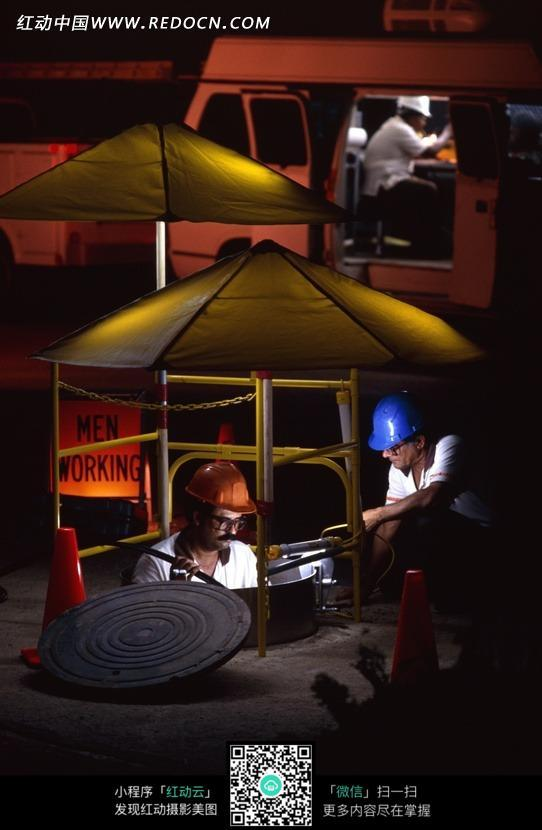helmet: (362, 383, 444, 466), (183, 457, 261, 517), (390, 90, 447, 141)
